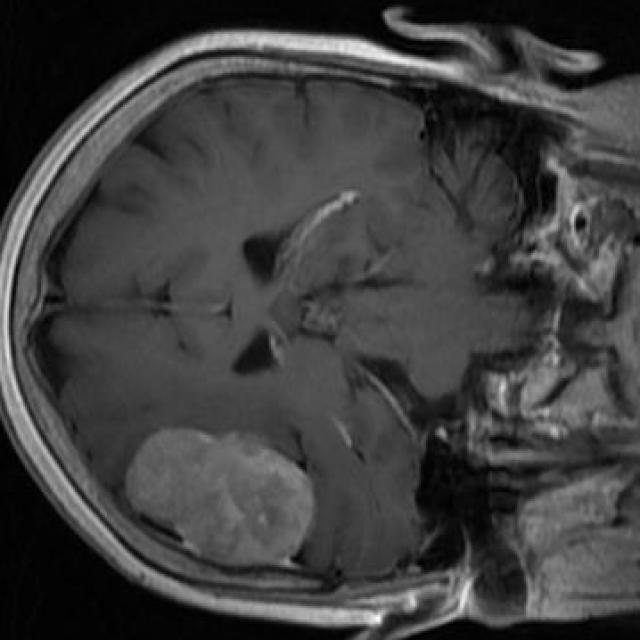meningioma: (125, 430, 314, 563)
